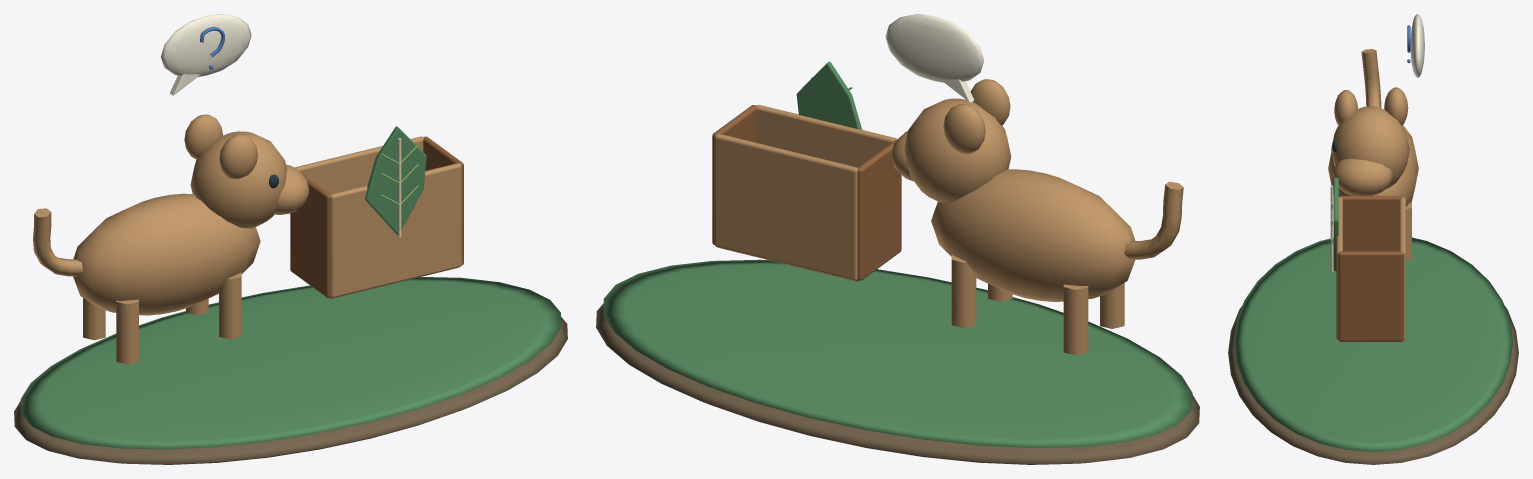
Rendered from complete-third-animal-green-guess.glb.
The picture shows the model from 3 angles, left to right: view 1: azimuth 30°, elevation 25°; view 2: azimuth 150°, elevation 25°; view 3: azimuth 270°, elevation 25°; orthographic projection. The views are drawn at different scales.
Parts seen in each view (by area): view 1: complete-third-animal-green-guess_surface_01, complete-third-animal-green-guess_surface_02, complete-third-animal-green-guess_surface_00, complete-third-animal-green-guess_surface_08, complete-third-animal-green-guess_surface_06; view 2: complete-third-animal-green-guess_surface_01, complete-third-animal-green-guess_surface_02, complete-third-animal-green-guess_surface_00, complete-third-animal-green-guess_surface_08, complete-third-animal-green-guess_surface_06; view 3: complete-third-animal-green-guess_surface_01, complete-third-animal-green-guess_surface_02, complete-third-animal-green-guess_surface_08, complete-third-animal-green-guess_surface_00, complete-third-animal-green-guess_surface_06, complete-third-animal-green-guess_surface_04.
Boxes of the visible parts, x1,y1,x2,y2 form: complete-third-animal-green-guess_surface_01: (20, 126, 561, 449); complete-third-animal-green-guess_surface_02: (33, 114, 461, 364); complete-third-animal-green-guess_surface_00: (14, 317, 567, 464); complete-third-animal-green-guess_surface_08: (290, 136, 463, 298); complete-third-animal-green-guess_surface_06: (161, 14, 251, 95); complete-third-animal-green-guess_surface_01: (603, 61, 1192, 448); complete-third-animal-green-guess_surface_02: (714, 79, 1183, 355); complete-third-animal-green-guess_surface_00: (596, 303, 1199, 464); complete-third-animal-green-guess_surface_08: (712, 105, 901, 281); complete-third-animal-green-guess_surface_06: (885, 14, 984, 102); complete-third-animal-green-guess_surface_01: (1234, 177, 1512, 451); complete-third-animal-green-guess_surface_02: (1328, 49, 1418, 340); complete-third-animal-green-guess_surface_08: (1338, 196, 1403, 341); complete-third-animal-green-guess_surface_00: (1228, 305, 1518, 464); complete-third-animal-green-guess_surface_06: (1410, 14, 1424, 77); complete-third-animal-green-guess_surface_04: (1330, 186, 1333, 272).
Size of the model in its own units: 4.56 by 3.05 by 2.5.
